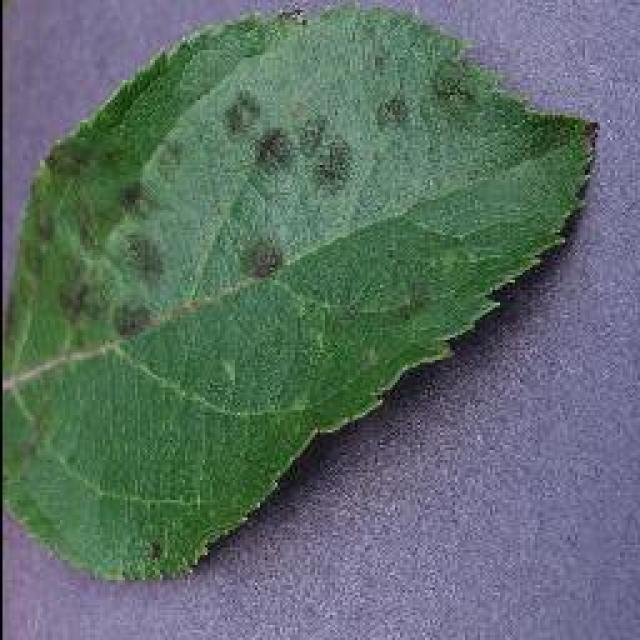Apple___Apple_scab: (1, 0, 602, 585)
